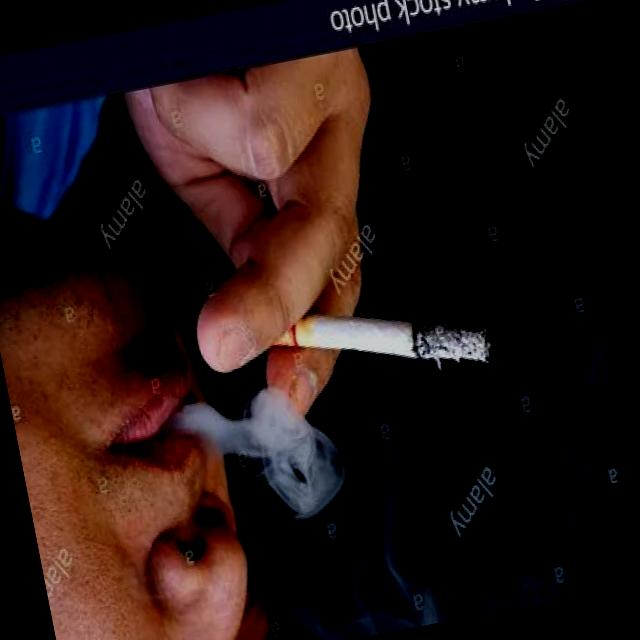smoke: (250, 270, 504, 418)
